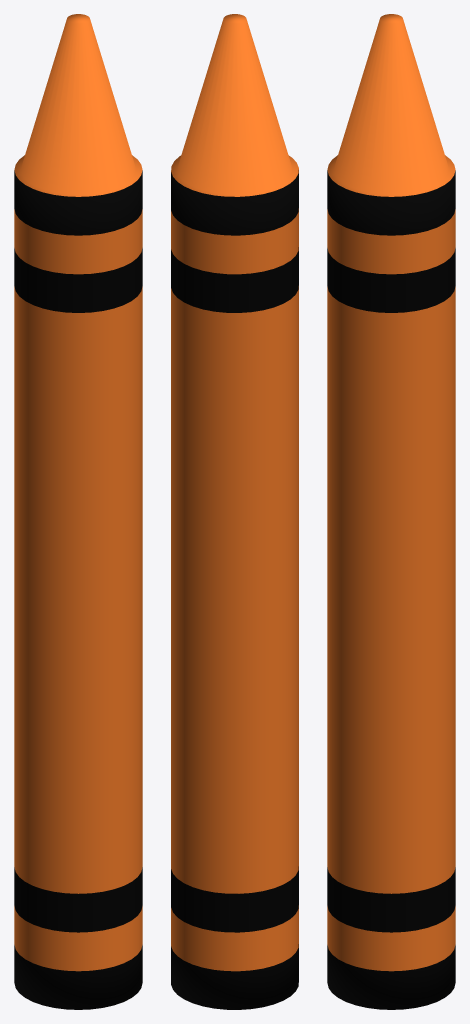
The model's file is CrayonVar1.fbx.
3 renders of one model, left to right at view 1: azimuth 90°, elevation 25°; view 2: azimuth 150°, elevation 25°; view 3: azimuth 270°, elevation 25°, orthographic.
Visible parts, largest first — view 1: Cylinder.001; view 2: Cylinder.001; view 3: Cylinder.001.
Part boxes in pixels (x1,y1,x2,y2): Cylinder.001: (14, 14, 142, 1009); Cylinder.001: (171, 14, 298, 1009); Cylinder.001: (327, 14, 455, 1009).
Bounding box in the file's own units: 200 × 200 × 1660.
